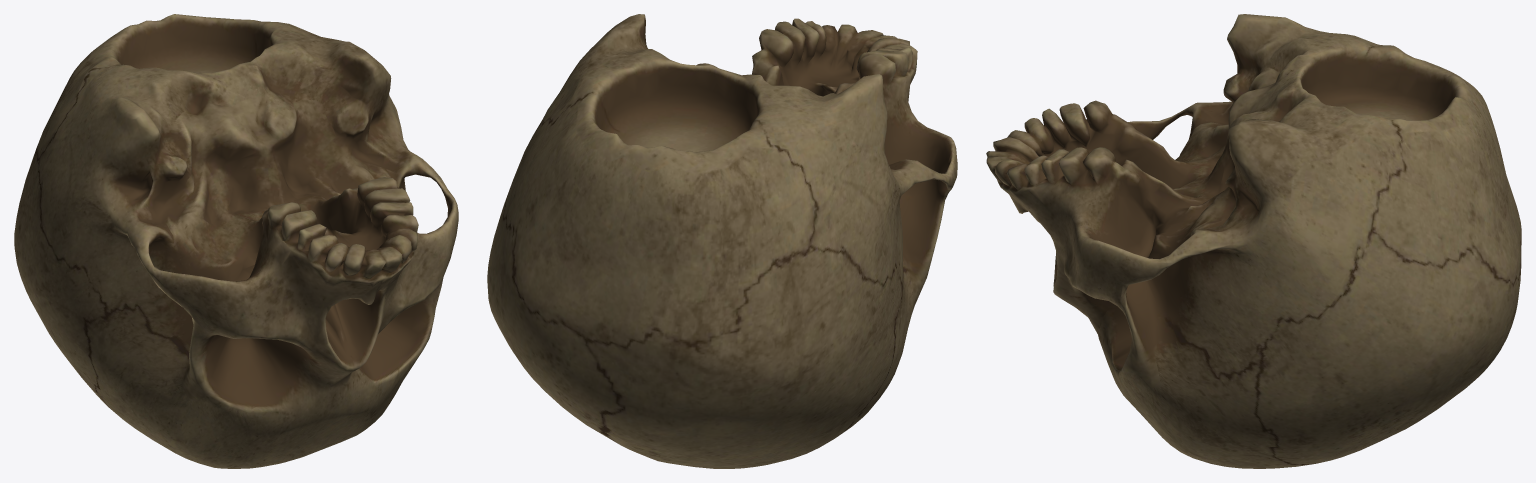
Rendered from MZ4250 - Hill Giant Skull.glb.
3 views of the same model, side by side, from view 1: azimuth 30°, elevation 25°; view 2: azimuth 150°, elevation 25°; view 3: azimuth 270°, elevation 25° (orthographic). The views are drawn at different scales.
Parts seen in each view (by area): view 1: HillGiantSkull; view 2: HillGiantSkull; view 3: HillGiantSkull.
Part boxes in pixels (x1,y1,x2,y2): HillGiantSkull: (14,14,458,468); HillGiantSkull: (487,14,957,468); HillGiantSkull: (986,14,1521,468).
Size of the model in its own units: 1.19 by 1.28 by 1.63.
Materials: 1 (1 with a texture image).
